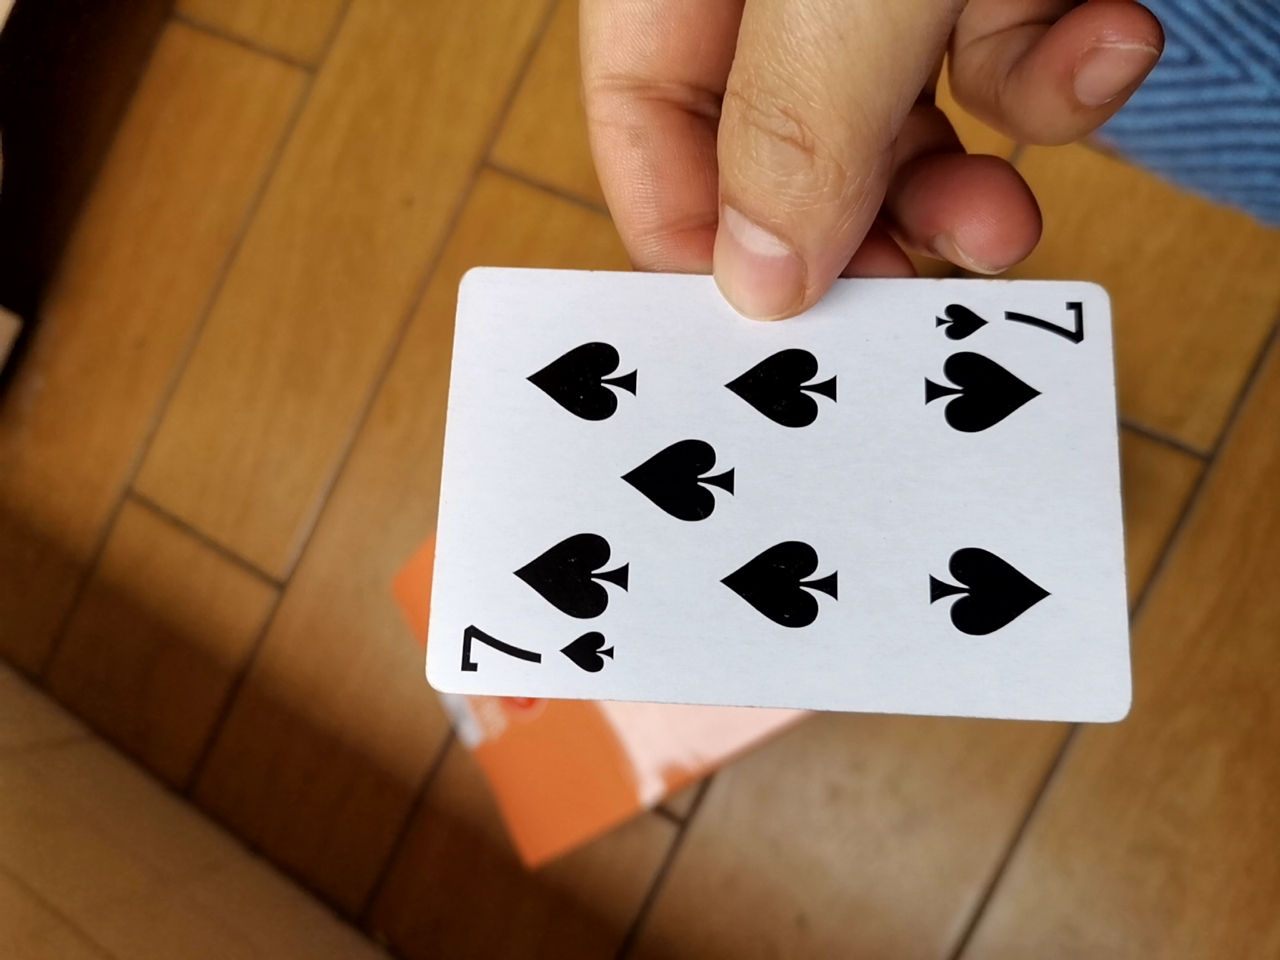ht 7: (399, 262, 1141, 737)
